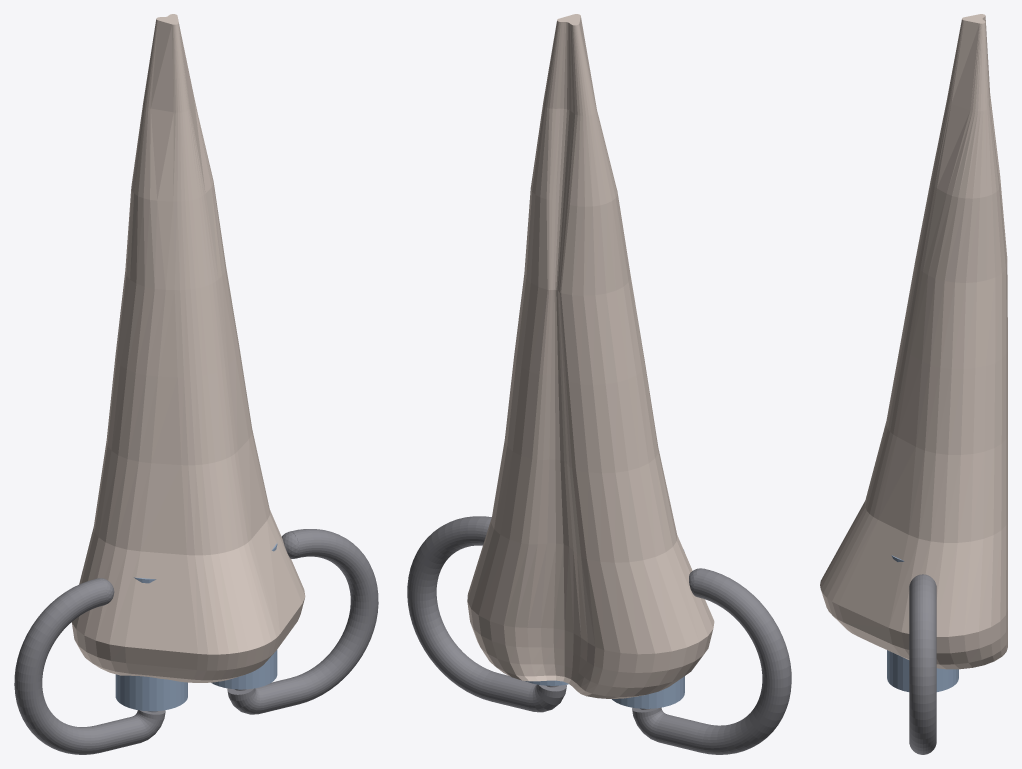
The model's file is candidate_balanced.glb.
3 views of the same model, side by side, from view 1: azimuth 30°, elevation 25°; view 2: azimuth 150°, elevation 25°; view 3: azimuth 270°, elevation 25° (orthographic). The views are drawn at different scales.
Visible parts, largest first — view 1: body, frame_left, frame_right, plug_left, plug_right; view 2: body, frame_left, frame_right, plug_left; view 3: body, frame_right, plug_right.
Boxes of the visible parts, box(x1,y1,x2,y2) form: body: box(71, 14, 305, 682); frame_left: box(14, 578, 165, 754); frame_right: box(227, 529, 378, 714); plug_left: box(115, 577, 187, 711); plug_right: box(211, 543, 277, 689); body: box(467, 14, 714, 698); frame_left: box(632, 568, 791, 754); frame_right: box(407, 516, 566, 712); plug_left: box(612, 549, 684, 708); body: box(820, 14, 1007, 669); frame_right: box(909, 574, 936, 754); plug_right: box(887, 555, 958, 691).
Bounding box in the file's own units: 34.32 × 62.69 × 15.7.
